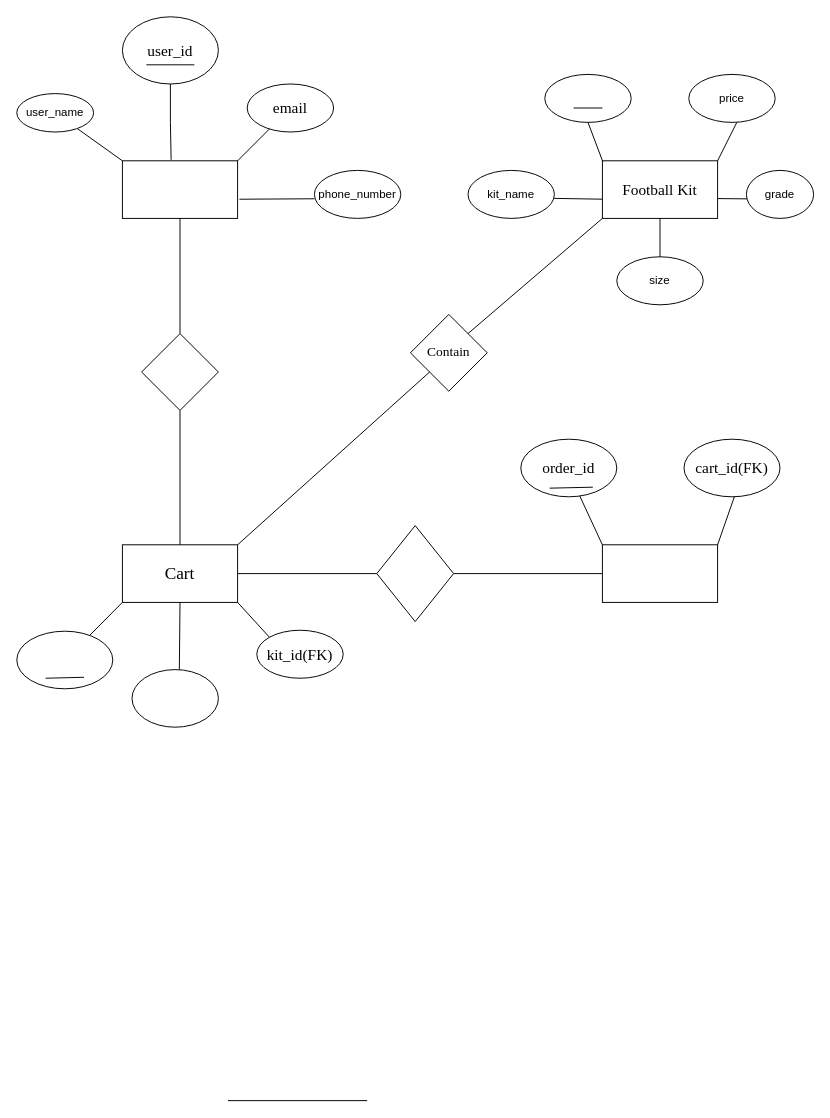
Some shapes in this 830 by 1118 pixel diagram are drawn without their labels. The shapes that lost their labels are listed below. From the top down, each one's centre as x and y in pixels, then its label:
point 587,97: kit_id
point 179,189: User
point 179,371: Adds To
point 415,573: Is
point 659,573: Order
point 64,659: cart_id
point 174,698: user_id(FK)
